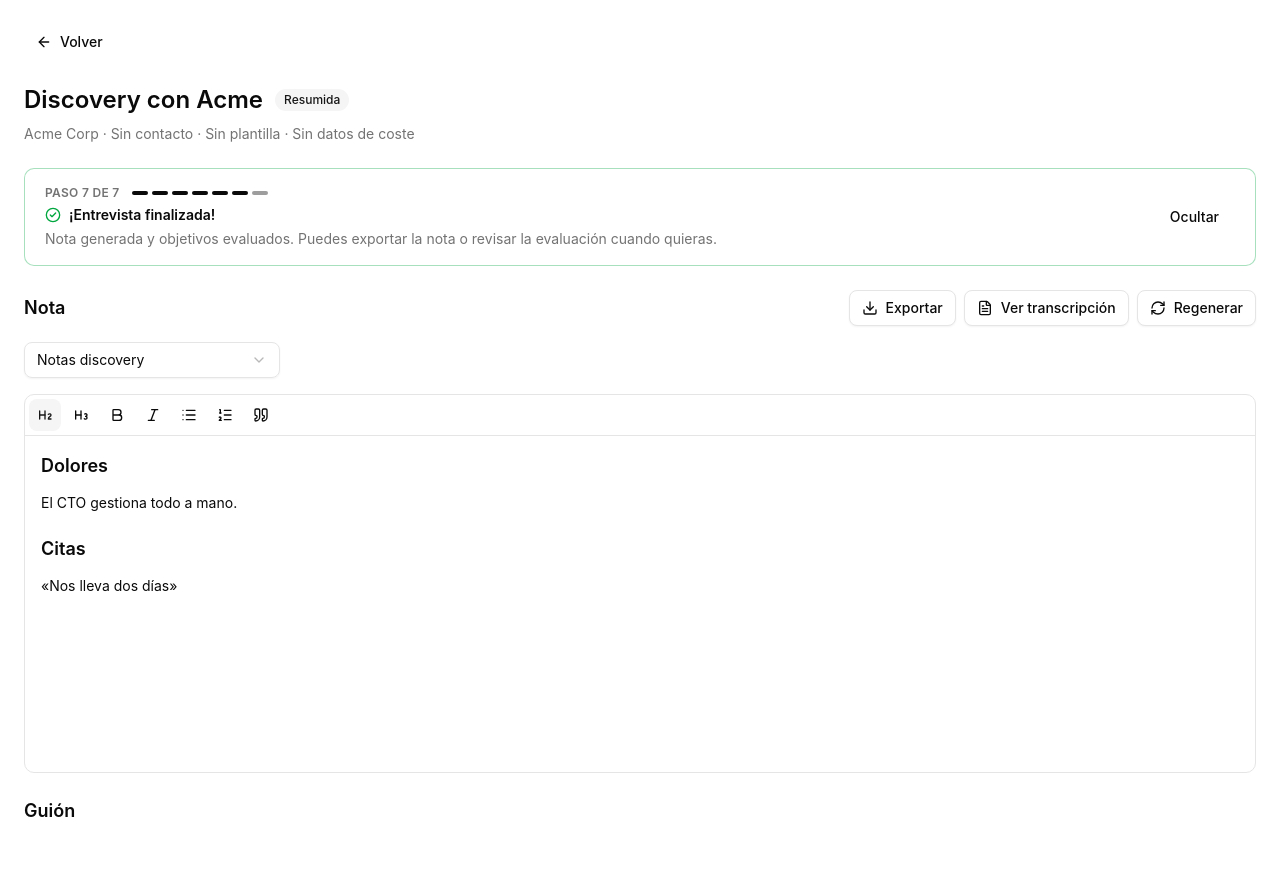
NoteSection › generation › shows a destructive alert with the mapped message and keeps interview and previous note intact on LLM error
Click the button with test id "note-regenerate-button".
click(1196, 308)  # box [1137, 290, 1256, 326]
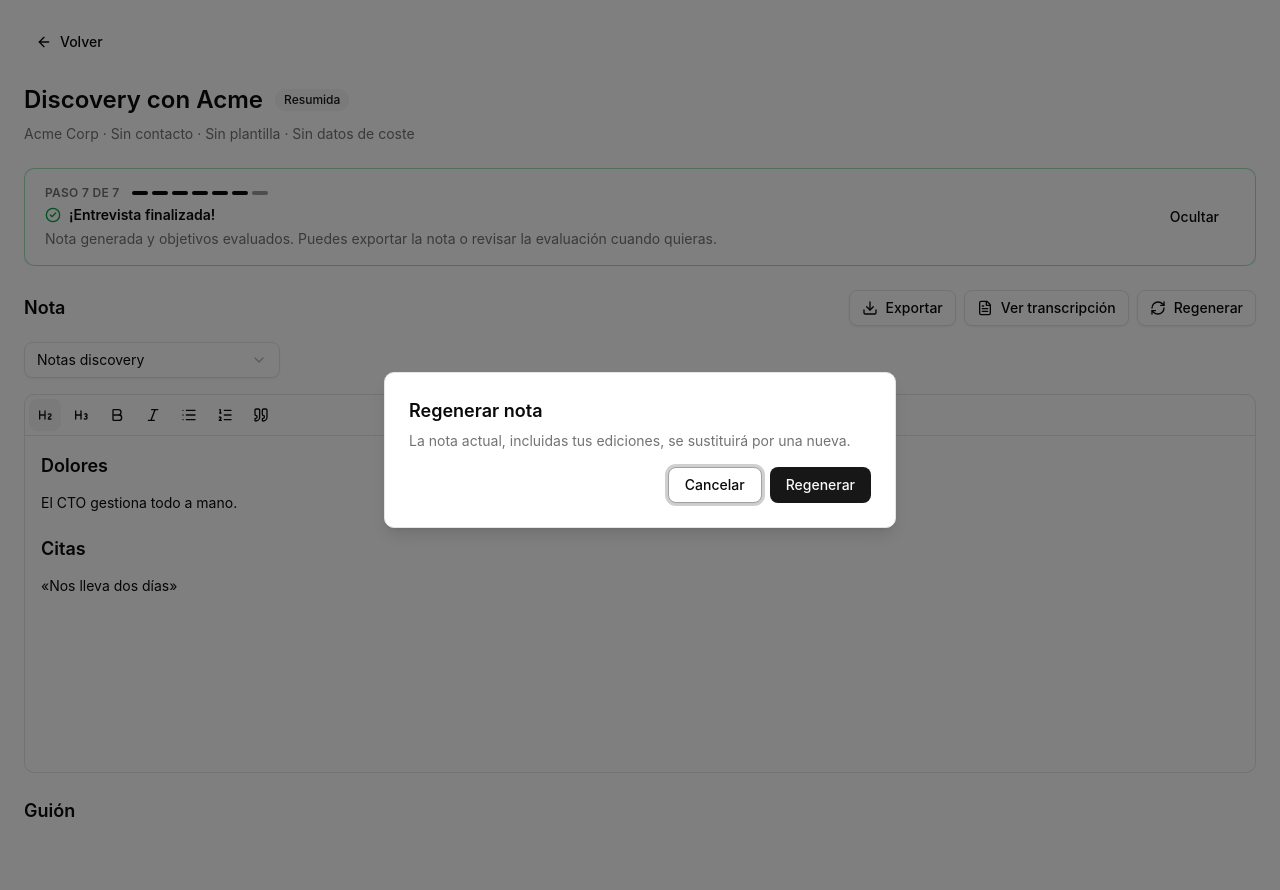
Click the button "Regenerar".
click(820, 485)  # box [770, 467, 871, 503]
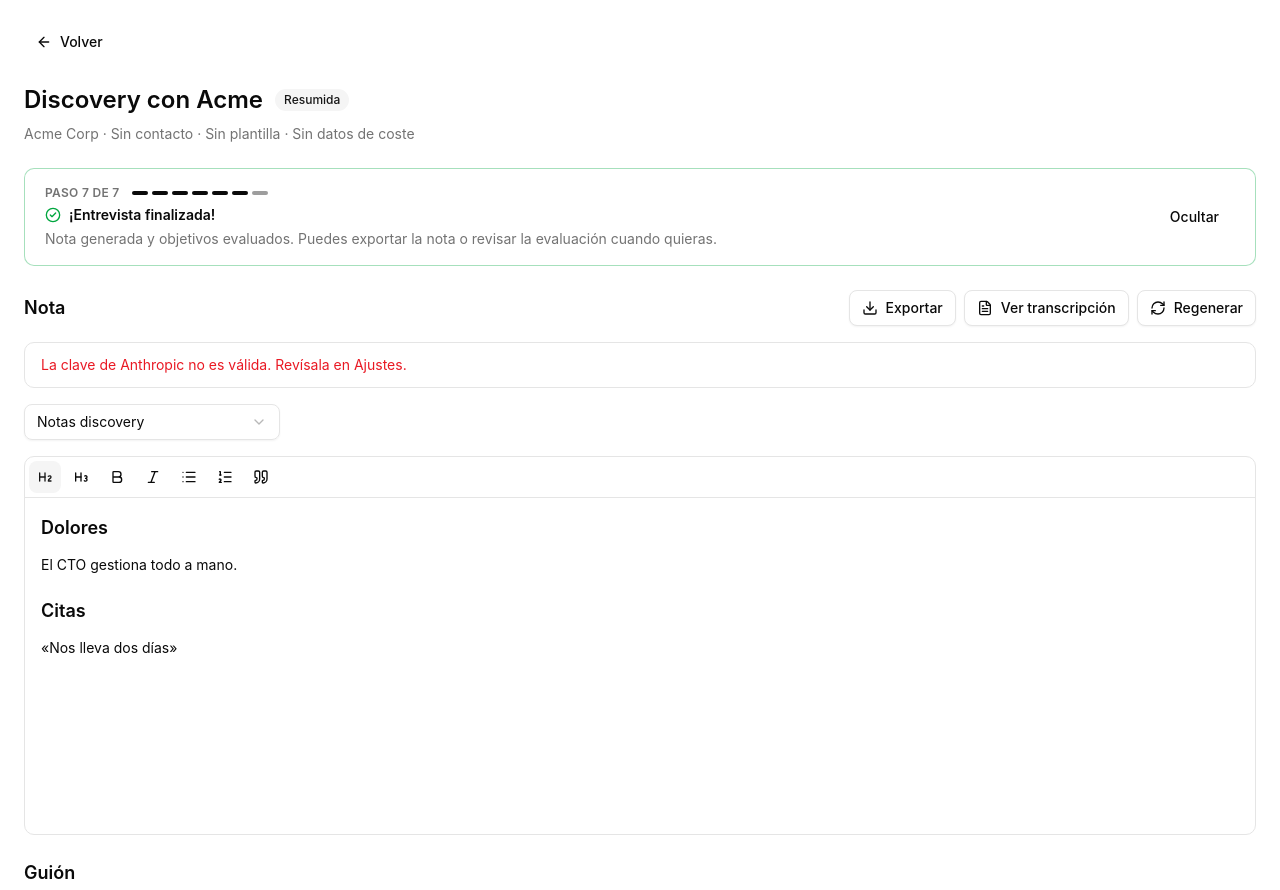
Expected: the text box "El CTO gestiona todo a mano." is shown, [41, 556, 237, 573]
Expected: the text "La clave de Anthropic no es válida. Revísala en Ajustes." is shown, [41, 356, 407, 373]
